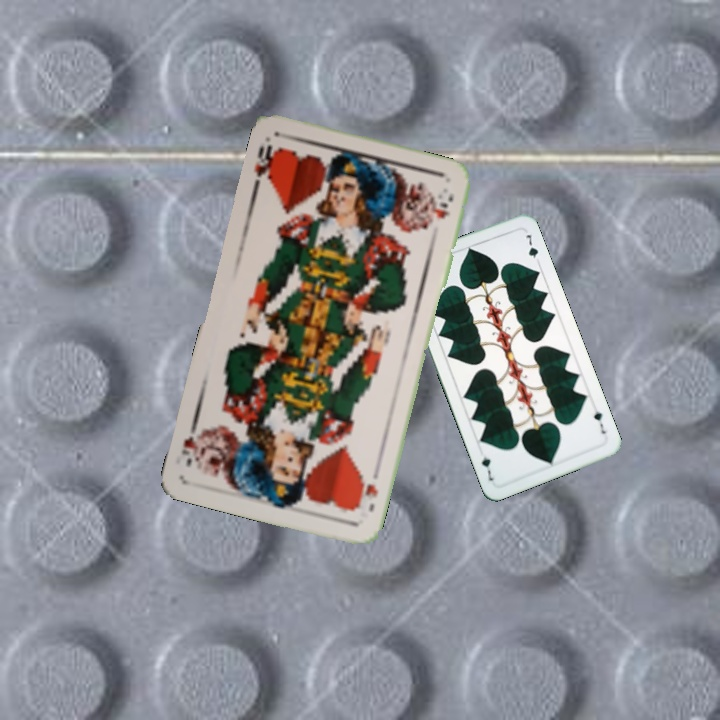G7: (589, 407, 608, 437)
HO: (350, 464, 383, 515), (249, 141, 282, 186)
